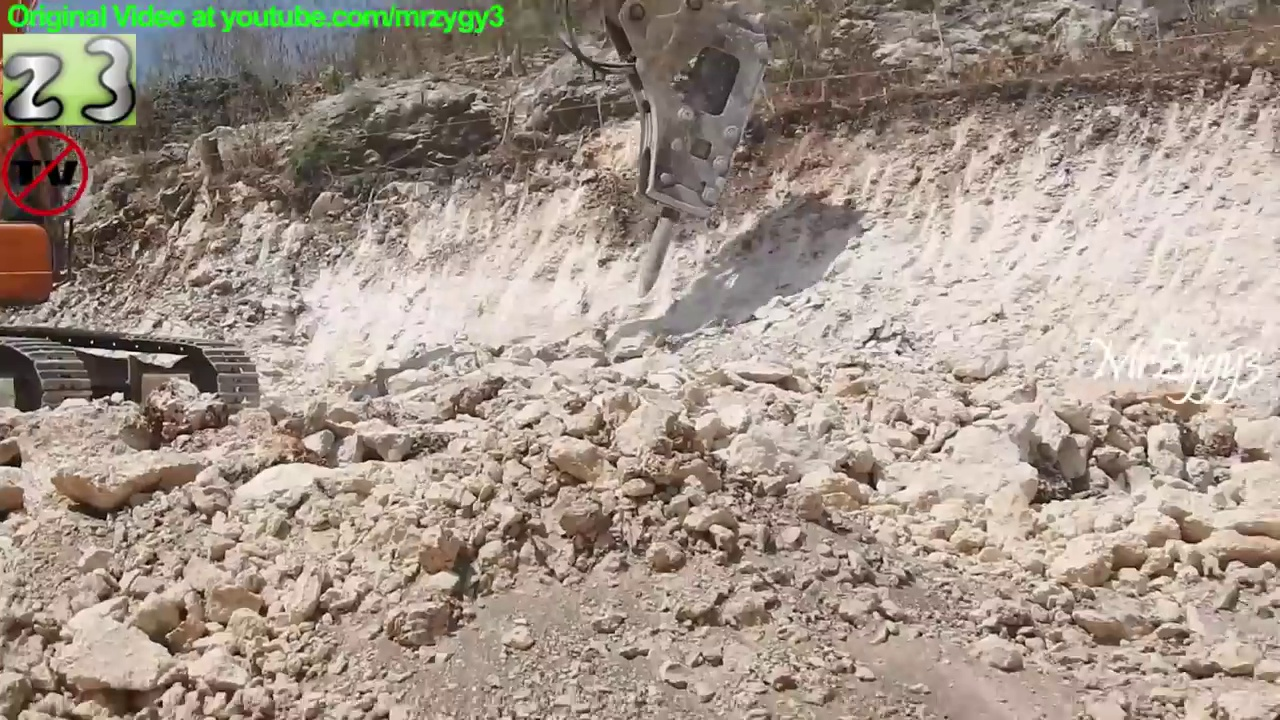excavator: (1, 1, 777, 434)
